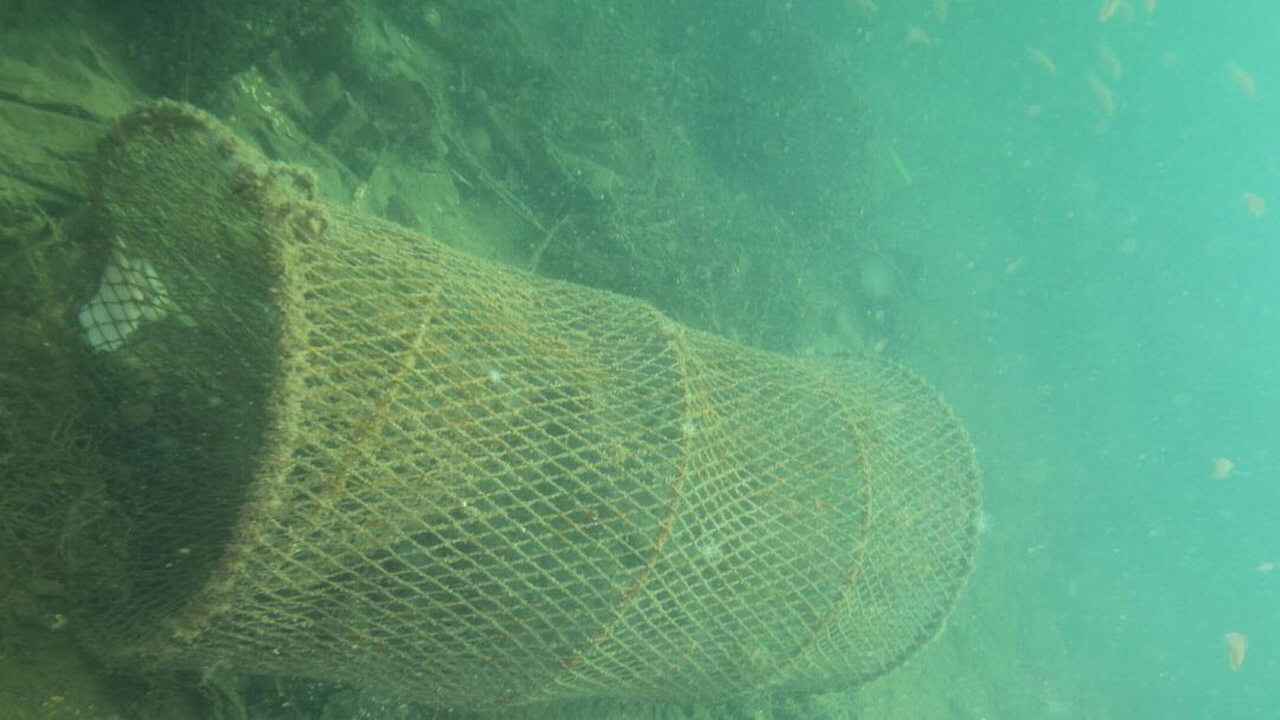spring fish trap: (52, 97, 988, 708)
